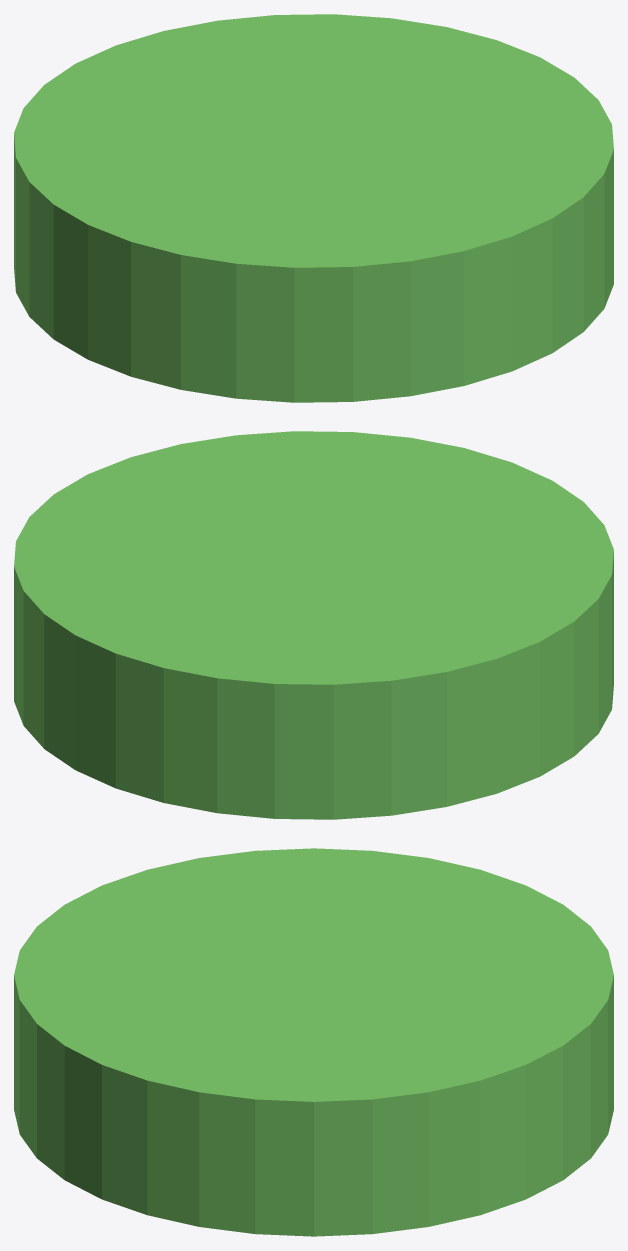
The model's file is greenPlayer.gltf.
3 views of the same model, one above another, from view 1: azimuth 30°, elevation 25°; view 2: azimuth 150°, elevation 25°; view 3: azimuth 270°, elevation 25° (orthographic).
Parts seen in each view (by area): view 1: Green2; view 2: Green2; view 3: Green2.
Part boxes in pixels (x1,y1,x2,y2): Green2: (14,14,613,402); Green2: (14,431,613,819); Green2: (14,848,613,1236).
Bounding box in the file's own units: 4 × 0.9907 × 4.
